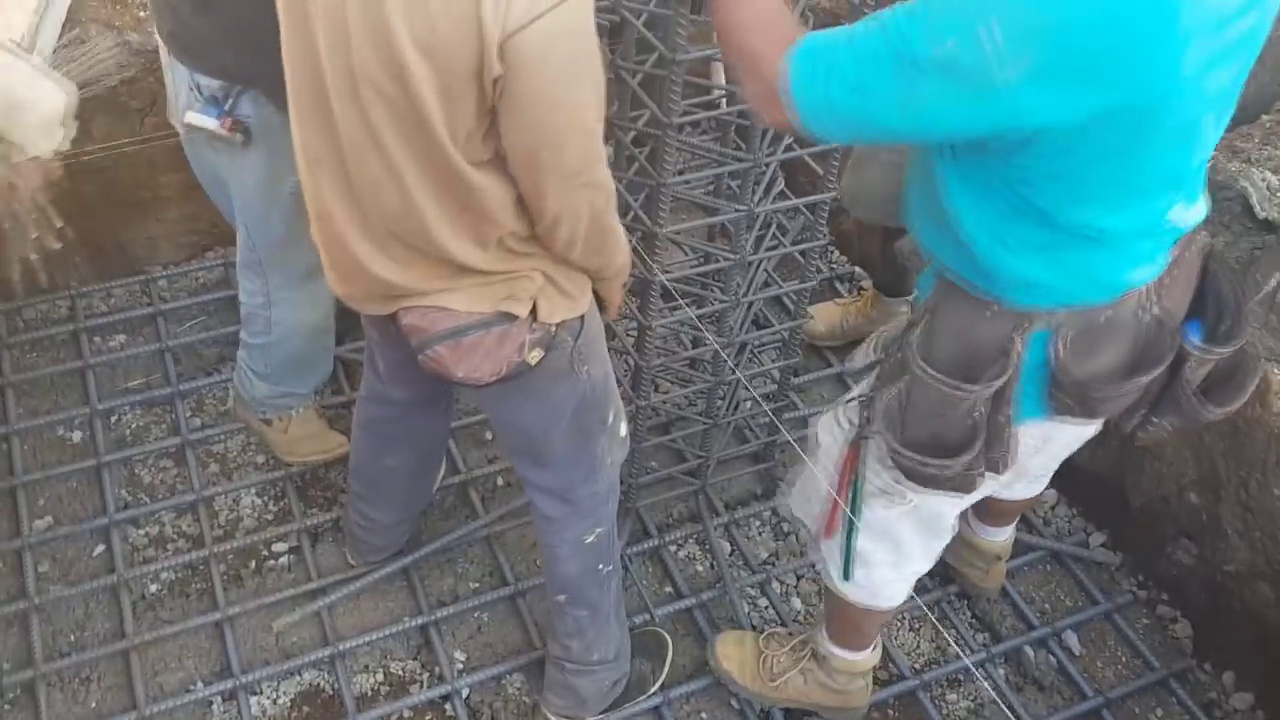person: (713, 0, 1280, 718), (258, 0, 672, 708), (161, 21, 341, 502)
